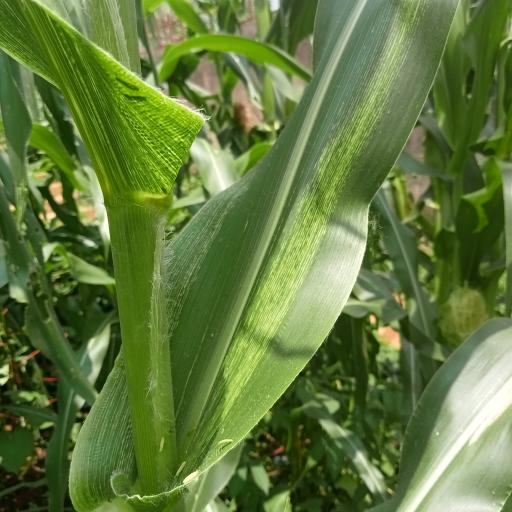Corn_Streak: (119, 0, 480, 511)
